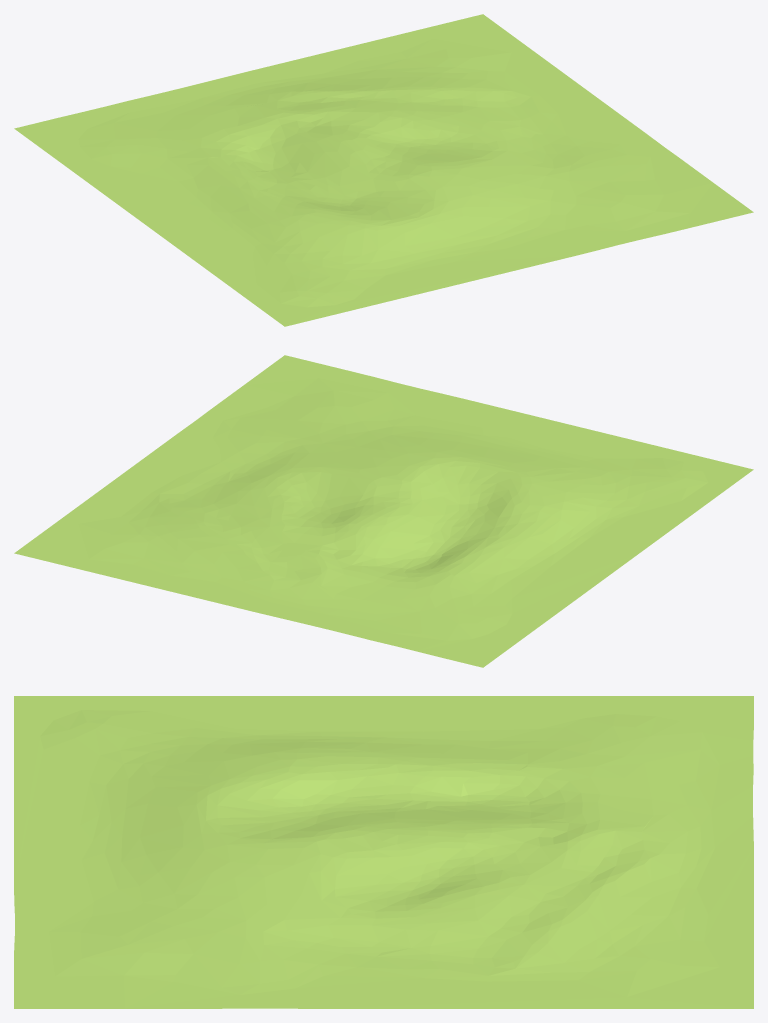
The model's file is Terrain_03.fbx.
The picture shows the model from 3 angles, top to bottom: view 1: azimuth 30°, elevation 25°; view 2: azimuth 150°, elevation 25°; view 3: azimuth 270°, elevation 25°; orthographic projection. The views are drawn at different scales.
Visible parts, largest first — view 1: Terrain_03; view 2: Terrain_03; view 3: Terrain_03.
Part boxes in pixels (x1,y1,x2,y2): Terrain_03: [14, 14, 753, 326]; Terrain_03: [14, 355, 753, 667]; Terrain_03: [14, 696, 753, 1008].
Bounding box in the file's own units: 524 × 14.05 × 524.
